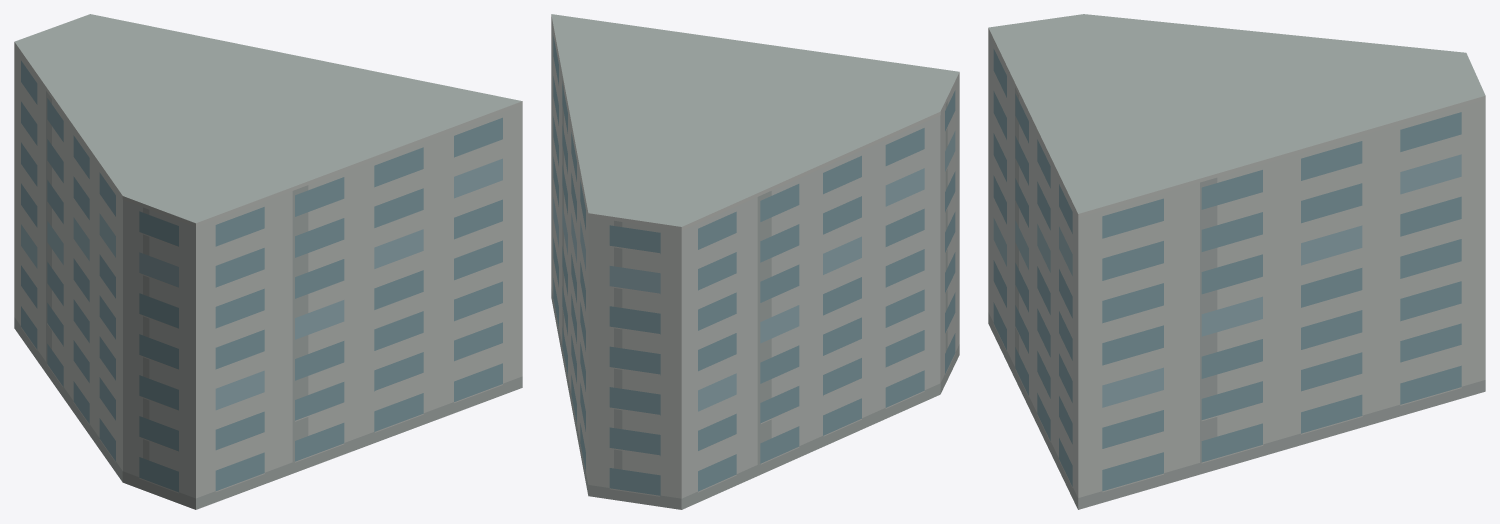
The model's file is survey-upis-33002754.glb.
3 views of the same model, side by side, from view 1: azimuth 30°, elevation 25°; view 2: azimuth 150°, elevation 25°; view 3: azimuth 270°, elevation 25° (orthographic). The views are drawn at different scales.
Visible parts, largest first — view 1: survey-upis-33002754.tmp; view 2: survey-upis-33002754.tmp; view 3: survey-upis-33002754.tmp.
Boxes of the visible parts, x1,y1,x2,y2 form: survey-upis-33002754.tmp: [14, 14, 522, 509]; survey-upis-33002754.tmp: [551, 14, 959, 509]; survey-upis-33002754.tmp: [988, 14, 1485, 509].
Size of the model in its own units: 26.68 by 18.4 by 28.04.
